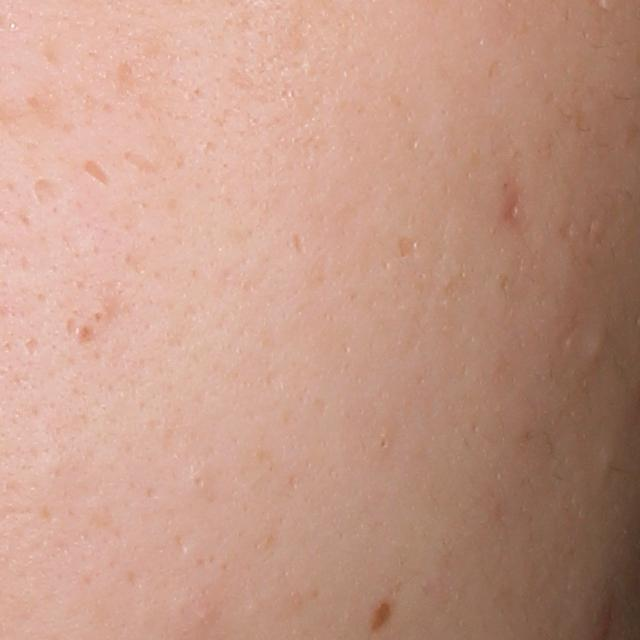atrophic_scar: (117, 148, 161, 175), (82, 160, 116, 190), (34, 179, 63, 211), (397, 234, 418, 263), (289, 230, 307, 253)
comedo: (579, 321, 615, 371), (190, 467, 212, 493), (374, 432, 391, 455)
nevus: (369, 596, 397, 633)
